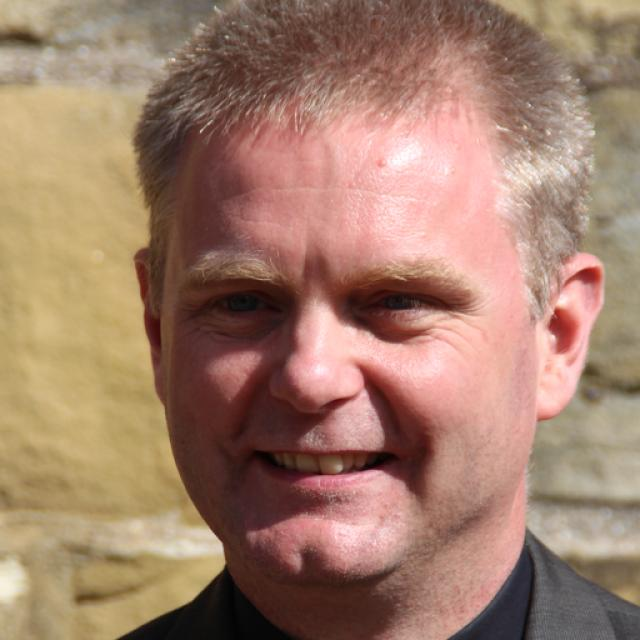Acne: (371, 153, 396, 174), (445, 138, 470, 156), (413, 227, 432, 243)
Wrinkle: (213, 177, 420, 204)
